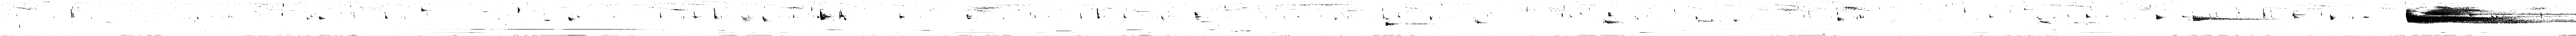meteor: (2405, 10, 2563, 25), (2192, 15, 2275, 21), (820, 8, 831, 20), (1603, 20, 1621, 25), (1385, 21, 1400, 26), (713, 7, 718, 20), (839, 10, 846, 20), (2039, 20, 2052, 25), (741, 16, 752, 21), (1475, 18, 1487, 23), (1194, 11, 1201, 20), (693, 10, 698, 20), (2155, 15, 2165, 20), (762, 16, 769, 23), (966, 13, 973, 20), (1837, 16, 1845, 21), (2292, 13, 2300, 18), (421, 7, 427, 11), (568, 16, 575, 21), (1608, 11, 1615, 16), (2085, 13, 2091, 18), (2330, 15, 2336, 20), (319, 16, 325, 20), (517, 7, 521, 13), (899, 15, 905, 18), (1124, 13, 1127, 18), (2037, 16, 2042, 20), (1161, 16, 1165, 20), (1580, 11, 1582, 15)
